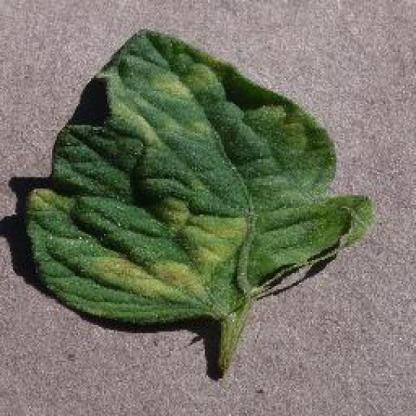Tomato_Leaf_Mold: (22, 31, 372, 332)
